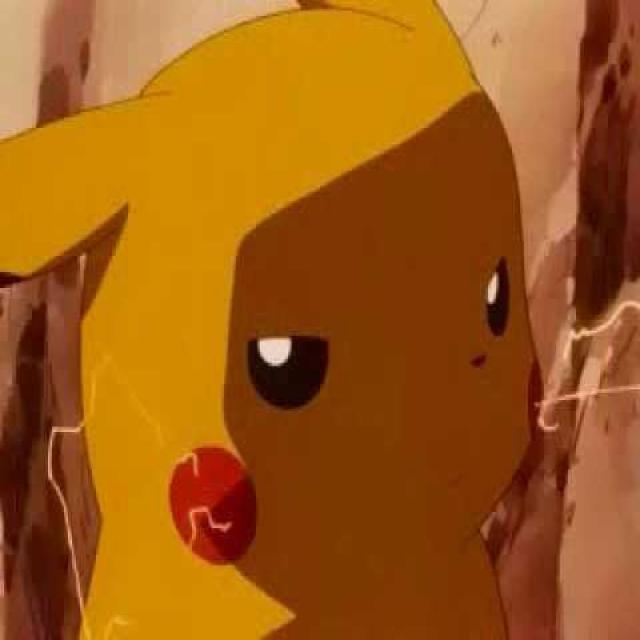pikachu: (1, 0, 542, 640)
